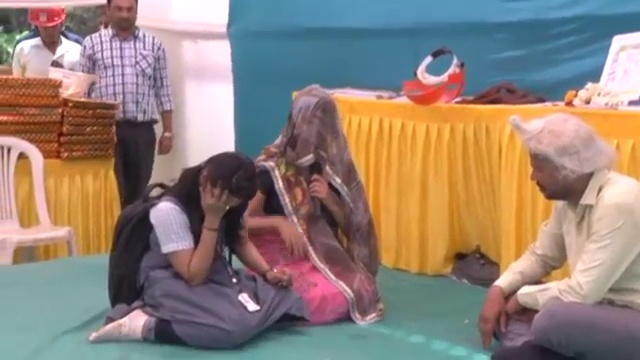helmet: (46, 65, 98, 99), (26, 2, 67, 27)
helmet_off: (511, 117, 609, 209), (282, 89, 346, 168), (186, 153, 257, 217), (105, 0, 139, 35)
helmet_on: (27, 1, 68, 49)
person: (478, 113, 640, 360), (89, 160, 296, 341), (252, 89, 380, 326), (80, 0, 173, 210), (5, 2, 90, 79)
